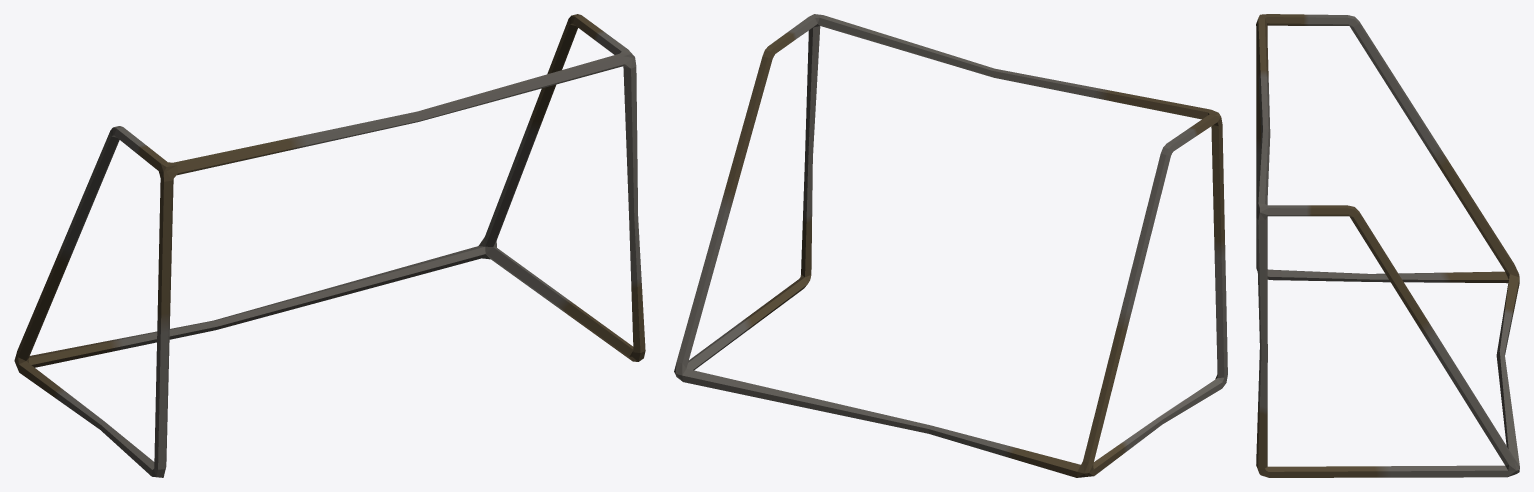
File: SM_Prop_GoalPosts_01.fbx
3 renders of one model, left to right at view 1: azimuth 30°, elevation 25°; view 2: azimuth 150°, elevation 25°; view 3: azimuth 270°, elevation 25°, orthographic. The views are drawn at different scales.
Visible parts, largest first — view 1: SM_Prop_GoalPosts_01; view 2: SM_Prop_GoalPosts_01; view 3: SM_Prop_GoalPosts_01.
Part boxes in pixels (<box>): SM_Prop_GoalPosts_01: <box>14,14,645,477</box>; SM_Prop_GoalPosts_01: <box>674,14,1227,477</box>; SM_Prop_GoalPosts_01: <box>1256,14,1519,477</box>.
Size of the model in its own units: 372 by 229 by 205.
